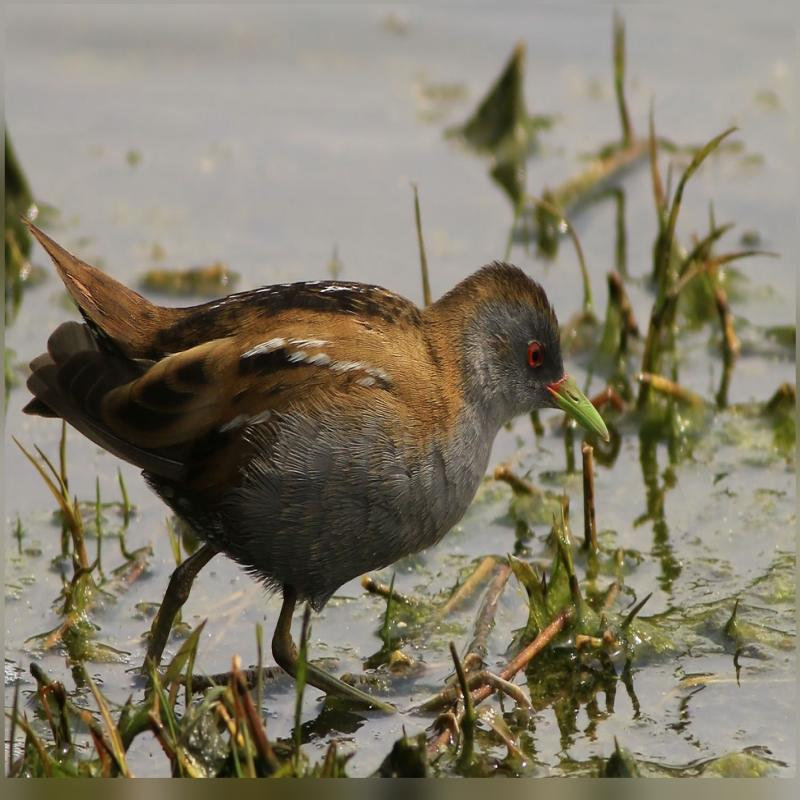little crake: (11, 213, 620, 634)
